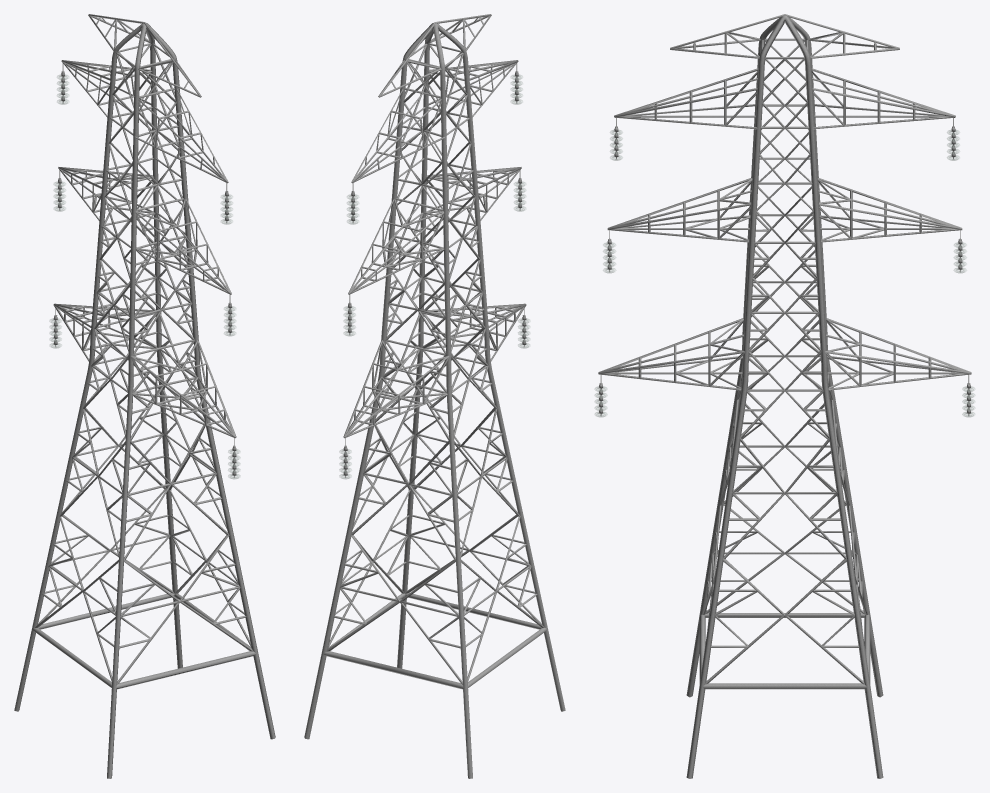
File: transmission_tower (4).glb
3 renders of one model, left to right at view 1: azimuth 30°, elevation 25°; view 2: azimuth 150°, elevation 25°; view 3: azimuth 270°, elevation 25°, orthographic. The views are drawn at different scales.
Parts seen in each view (by area): view 1: Low Poly Transmission Tower_0; view 2: Low Poly Transmission Tower_0; view 3: Low Poly Transmission Tower_0.
Boxes of the visible parts, x1=… form: Low Poly Transmission Tower_0: x1=14, y1=14, x2=275, y2=778; Low Poly Transmission Tower_0: x1=304, y1=14, x2=565, y2=778; Low Poly Transmission Tower_0: x1=594, y1=14, x2=975, y2=778.
Bounding box in the file's own units: 1.18 × 4.68 × 2.24.
2 materials, 1 textured.
